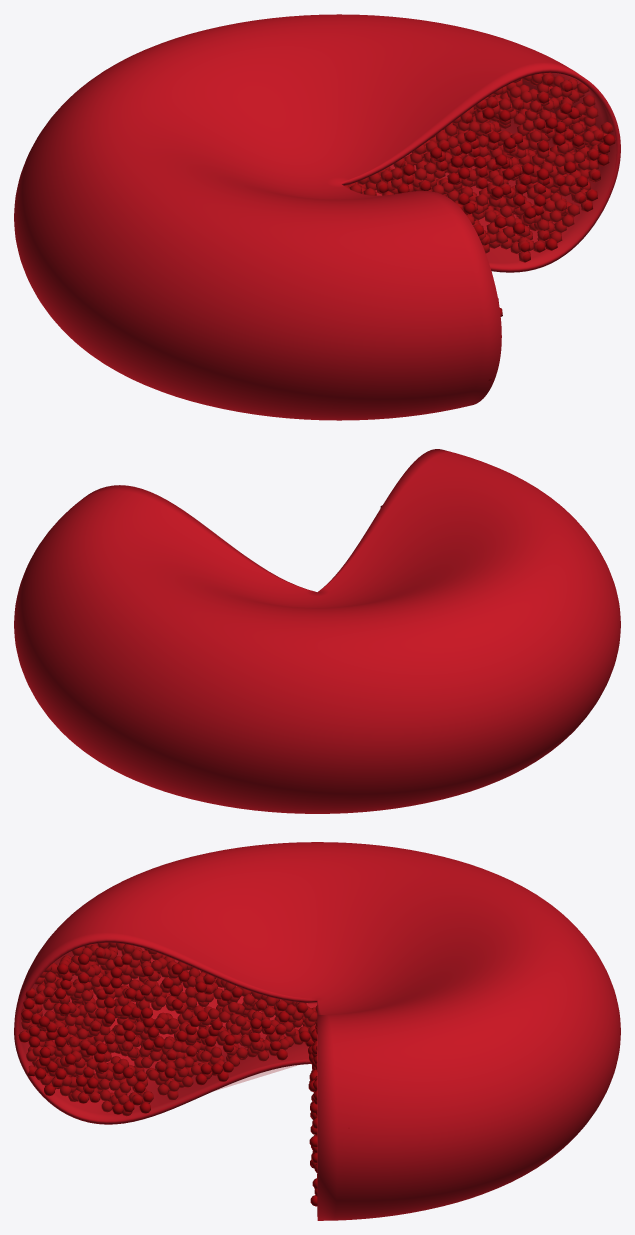
File: redcell.glb
3 views of the same model, one above another, from view 1: azimuth 30°, elevation 25°; view 2: azimuth 150°, elevation 25°; view 3: azimuth 270°, elevation 25° (orthographic). The views are drawn at different scales.
Visible parts, largest first — view 1: cz-rbc, cz-hemoglobin, cz-rbc.001; view 2: cz-rbc; view 3: cz-rbc, cz-hemoglobin, cz-rbc.001.
Part boxes in pixels (x1,y1,x2,y2): cz-rbc: (14, 14, 620, 420); cz-hemoglobin: (344, 72, 615, 380); cz-rbc.001: (345, 73, 615, 267); cz-rbc: (14, 449, 620, 813); cz-rbc: (14, 842, 620, 1220); cz-hemoglobin: (18, 942, 349, 1206); cz-rbc.001: (19, 943, 316, 1119).
Bounding box in the file's own units: 10.16 × 3.44 × 10.16.
